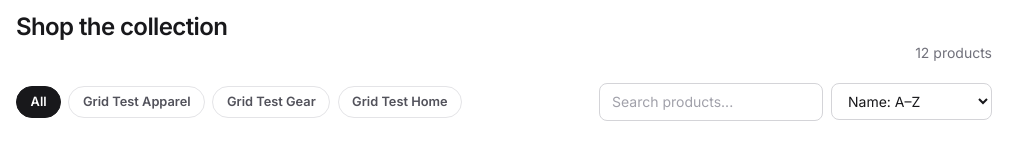
it: ProductGridFrontend › filters by category from the pill bar
Step 1. Click the tab "Grid Test Gear" → click(271, 102), box [212,86,330,118]
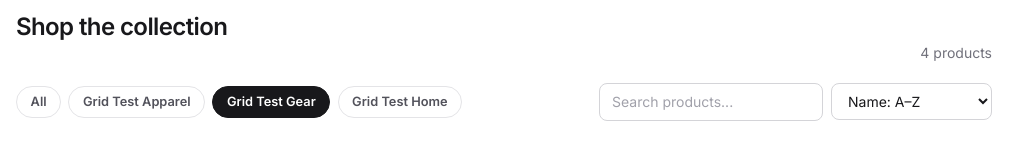
Now the text "4 products" is shown, box [920,43,992,63]
